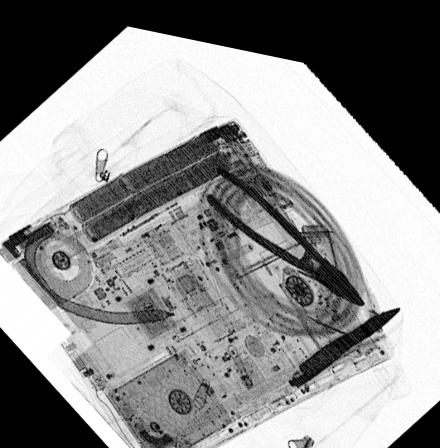Pliers: (203, 152, 367, 293), (286, 287, 403, 376)
